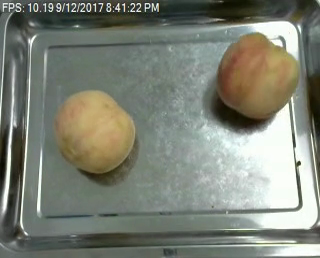Peach: (215, 29, 300, 119), (54, 88, 135, 174)
